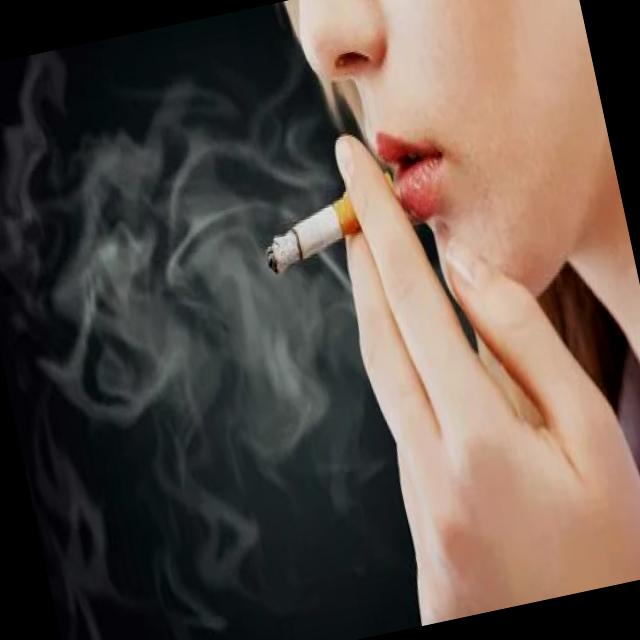cigarette: (248, 164, 412, 285)
